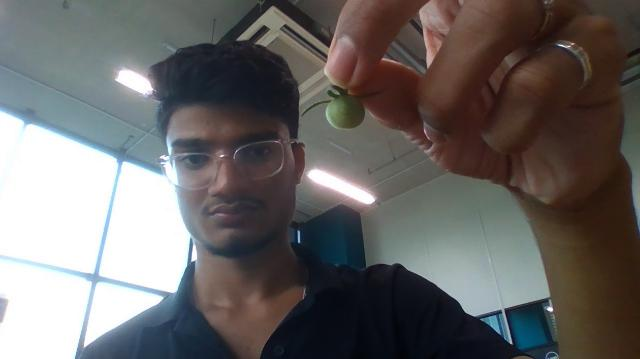Fruit Maturation: (325, 89, 367, 131)
